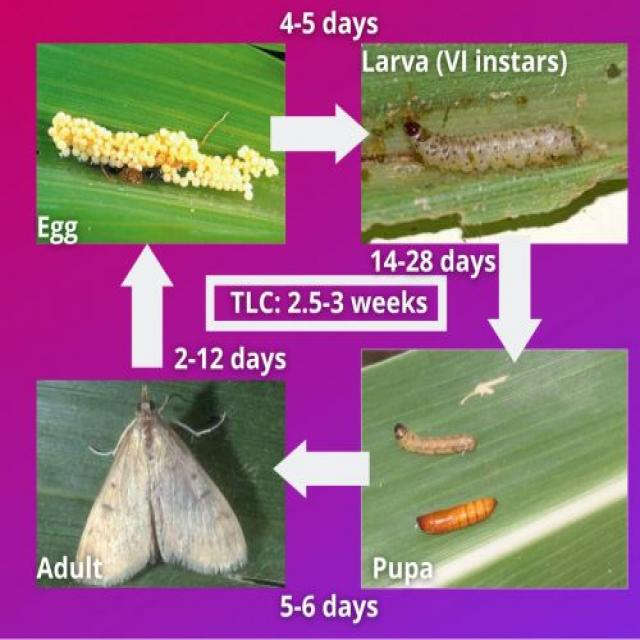cornborer-Adult-: (72, 379, 269, 586)
cornborer-Larva-: (399, 114, 596, 174), (386, 414, 482, 461)
